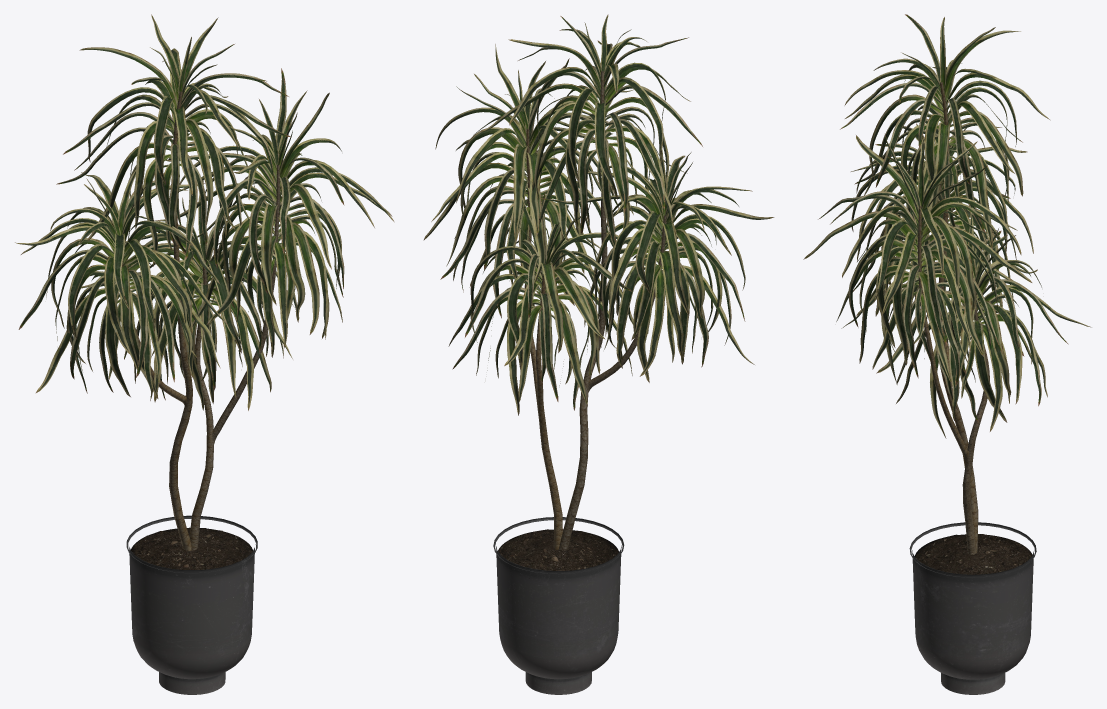
File: dracaena_variegata.glb
3 views of the same model, side by side, from view 1: azimuth 30°, elevation 25°; view 2: azimuth 150°, elevation 25°; view 3: azimuth 270°, elevation 25° (orthographic). The views are drawn at different scales.
Visible parts, largest first — view 1: DRACAENA_VARIEGATA_DRACAENA_VARIEGATA_Mat_0, METAL_POT_03_METAL_POT_SIMPLE_Mat_0; view 2: DRACAENA_VARIEGATA_DRACAENA_VARIEGATA_Mat_0, METAL_POT_03_METAL_POT_SIMPLE_Mat_0; view 3: DRACAENA_VARIEGATA_DRACAENA_VARIEGATA_Mat_0, METAL_POT_03_METAL_POT_SIMPLE_Mat_0.
Boxes of the visible parts, box(x1,y1,x2,y2) form: DRACAENA_VARIEGATA_DRACAENA_VARIEGATA_Mat_0: box(15, 14, 394, 550); METAL_POT_03_METAL_POT_SIMPLE_Mat_0: box(126, 515, 257, 694); DRACAENA_VARIEGATA_DRACAENA_VARIEGATA_Mat_0: box(423, 14, 774, 550); METAL_POT_03_METAL_POT_SIMPLE_Mat_0: box(493, 517, 624, 694); DRACAENA_VARIEGATA_DRACAENA_VARIEGATA_Mat_0: box(803, 14, 1091, 554); METAL_POT_03_METAL_POT_SIMPLE_Mat_0: box(909, 522, 1036, 694).
Size of the model in its own units: 1.21 by 2.18 by 0.8933.
Materials: 2 (2 with a texture image).
